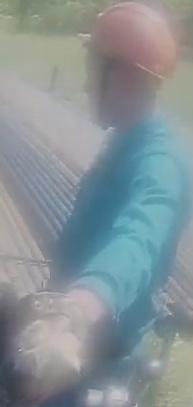gloves: (7, 285, 91, 403)
helmet: (81, 3, 179, 84)
vest: (61, 123, 184, 334)
